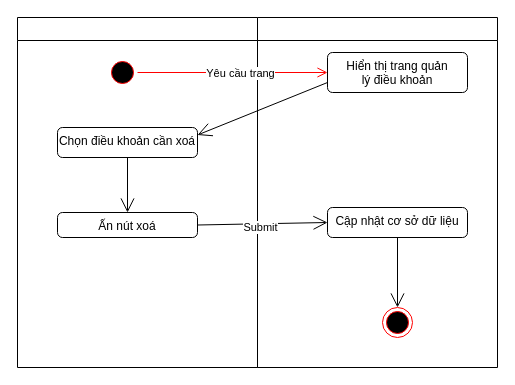
This 515x385 diagram has some shape labels left out. Each missing label, with the box of its shape:
Admin: (16, 16, 258, 368)
Hệ thống: (256, 16, 498, 368)
